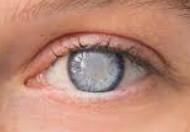eye: (68, 48, 126, 93)
